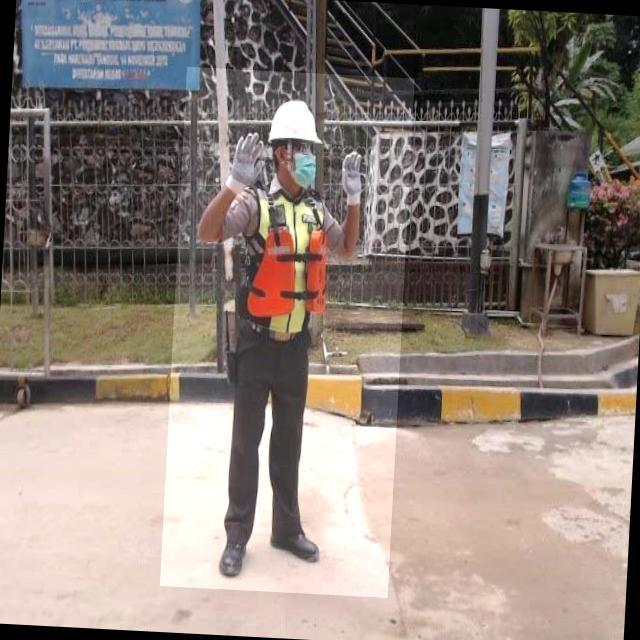Gloves: (220, 124, 271, 210), (332, 148, 377, 217)
Helmet: (265, 96, 329, 153)
Person: (188, 66, 392, 606)
Safety Boot: (265, 513, 326, 567), (215, 514, 255, 583)
Safety Vest: (228, 184, 335, 347)
